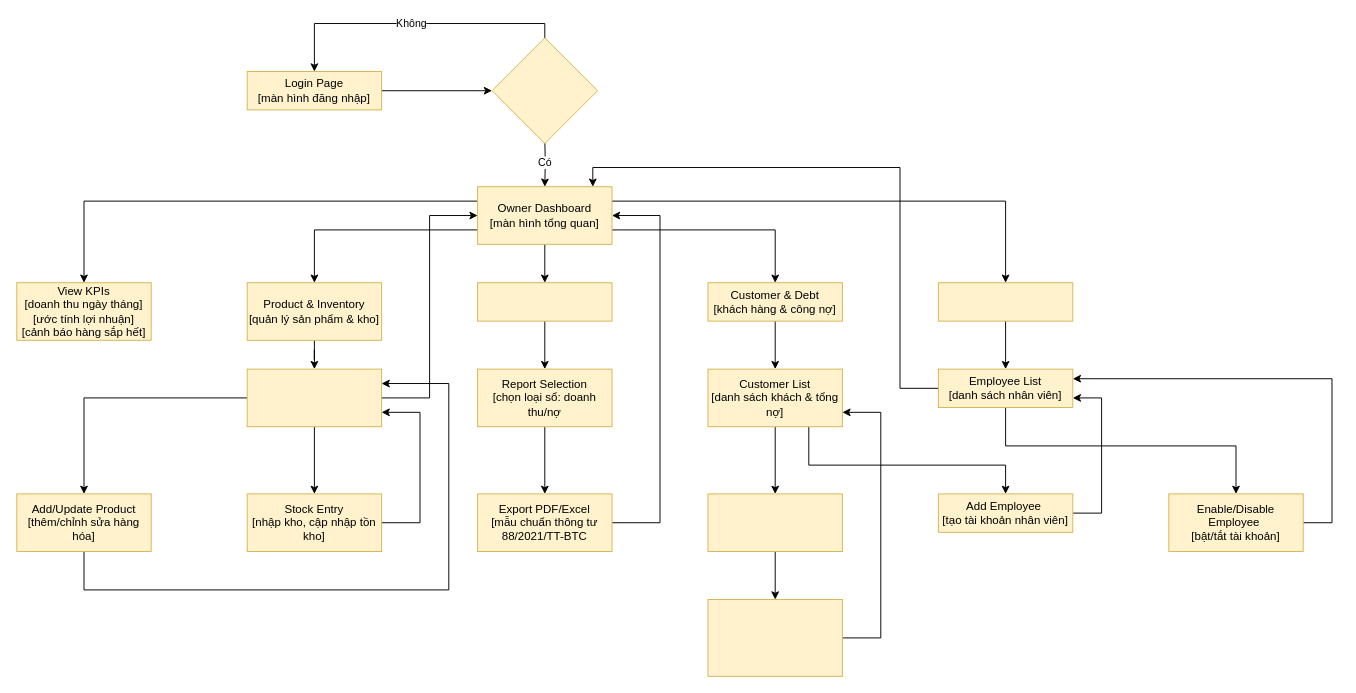
Image size: 1356x693. Some labels were removed from this diagram. Each missing label, with the box of its shape:
Compliance Reports [báo cáo tuân thủ TT88]: (477, 282, 612, 321)
Debt History [chi tiết từng đơn nợ]: (707, 493, 842, 552)
Employee Mangement [nhân viên bán hàng]: (937, 282, 1073, 321)
Product List [danh thu sản phẩm, đơn vị tính, giá bán]: (246, 368, 382, 427)
Record Payment/New Debt [ghi nhận thanh toán/ghi nợ]: (707, 599, 842, 676)
Xác thực quyền Owner: (491, 37, 598, 144)
